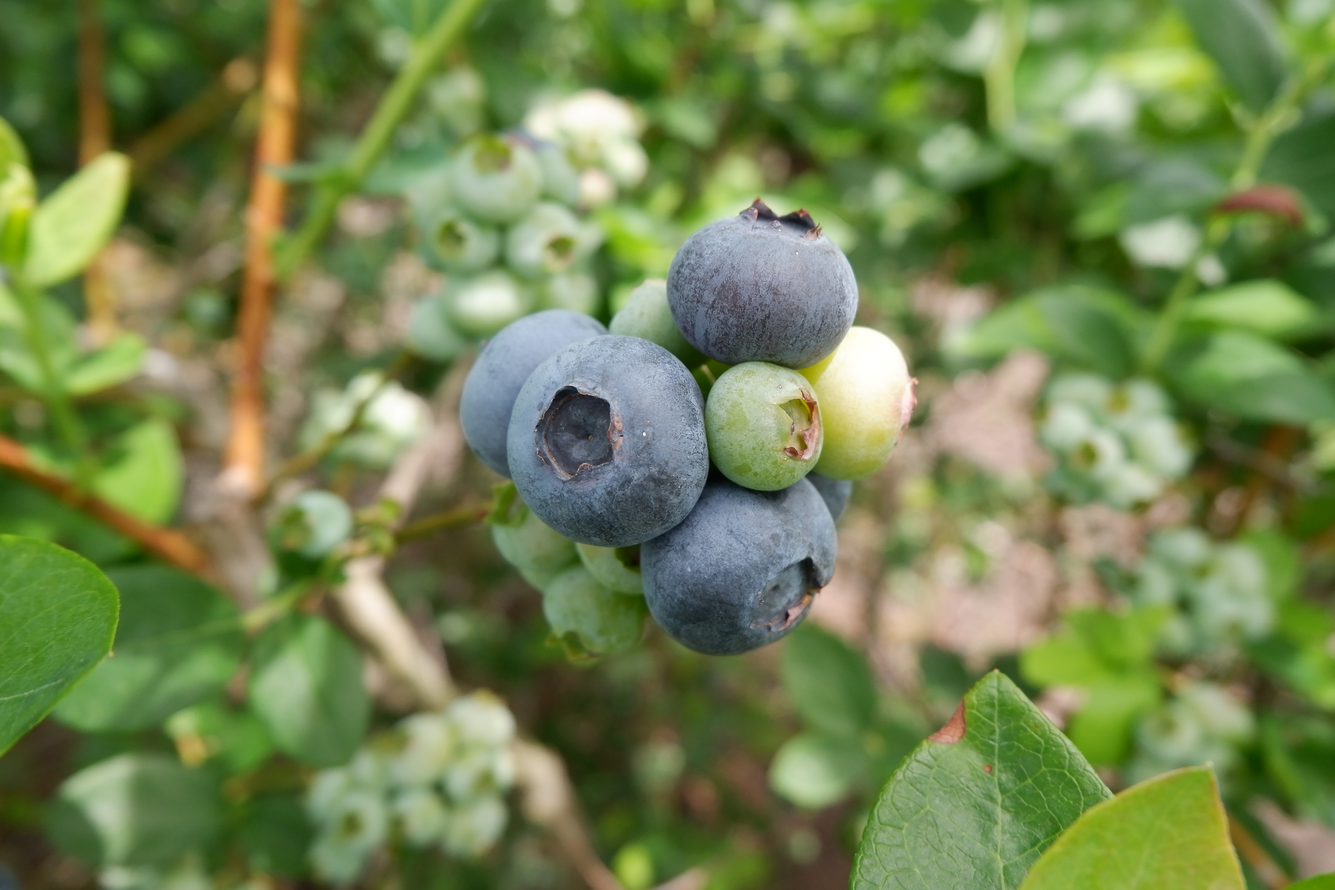Immature: (808, 330, 914, 479), (708, 365, 822, 488), (545, 564, 647, 661), (491, 489, 574, 590), (611, 278, 703, 369), (575, 542, 642, 592)
Mature: (508, 334, 706, 541), (644, 476, 835, 652), (667, 201, 854, 365), (460, 311, 609, 470), (810, 470, 853, 523)
